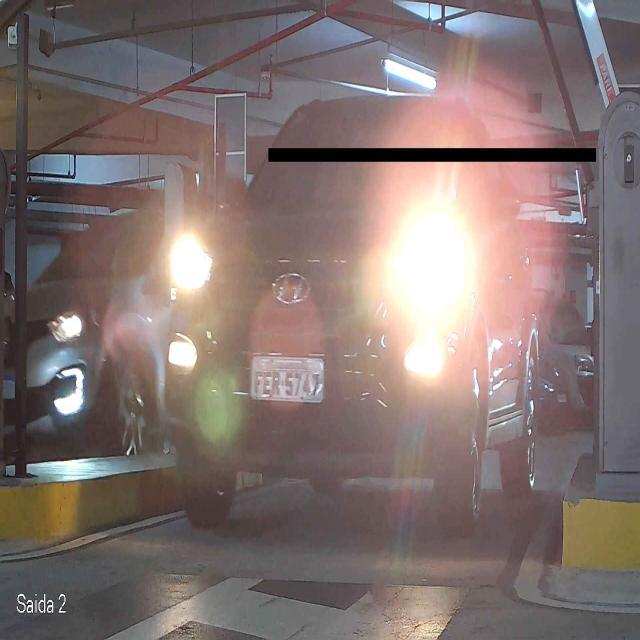old_plate: (247, 354, 328, 405)
